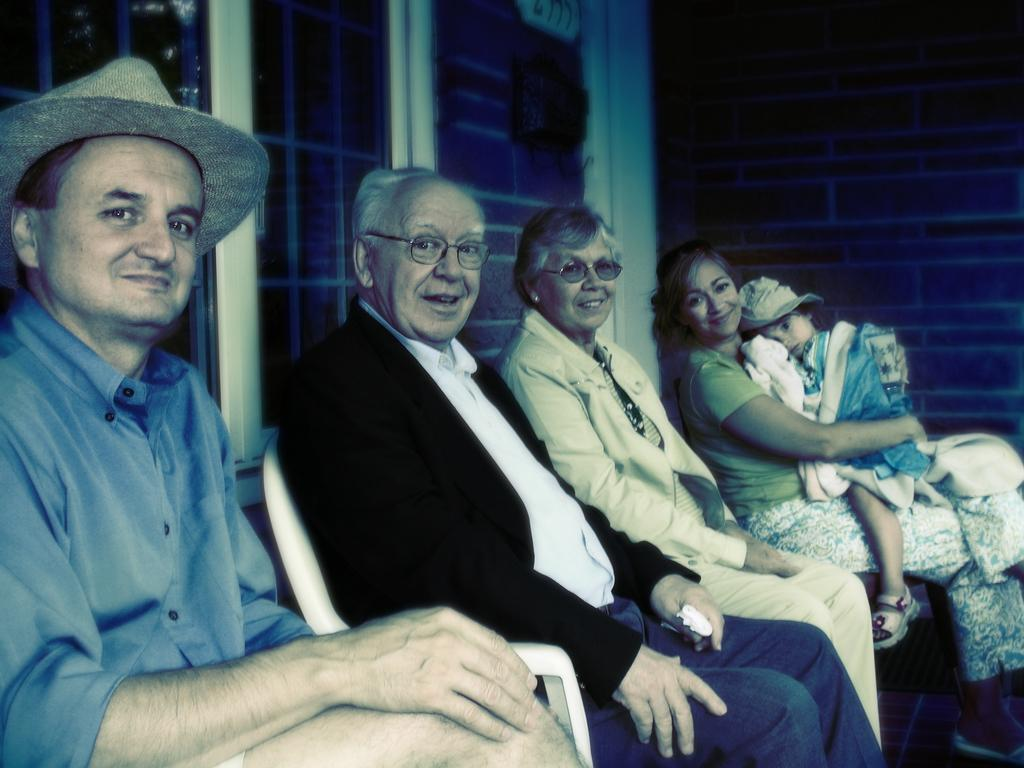Hat: (0, 54, 272, 276), (740, 274, 822, 336)
